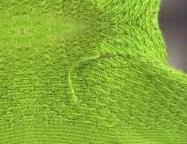snag: (62, 50, 103, 104)
